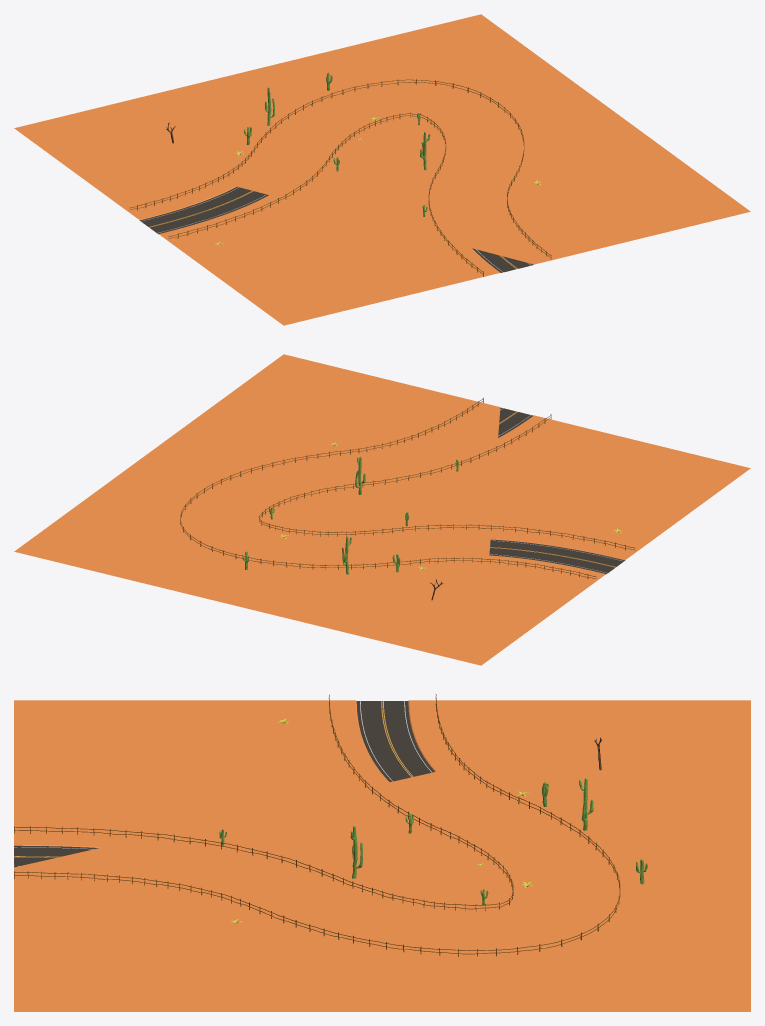
The model's file is DesertRoadRight4.fbx.
The picture shows the model from 3 angles, top to bottom: view 1: azimuth 30°, elevation 25°; view 2: azimuth 150°, elevation 25°; view 3: azimuth 270°, elevation 25°; orthographic projection. The views are drawn at different scales.
Visible parts, largest first — view 1: DRR4Road, DRR4WoodFenceLeft, DRR4WoodFenceRight; view 2: DRR4Road, DRR4WoodFenceLeft, DRR4WoodFenceRight; view 3: DRR4Road, DRR4WoodFenceLeft, DRR4WoodFenceRight.
Part boxes in pixels (x1,y1,x2,y2): DRR4Road: (14, 14, 750, 325); DRR4WoodFenceLeft: (129, 79, 551, 259); DRR4WoodFenceRight: (168, 112, 483, 276); DRR4Road: (14, 354, 750, 665); DRR4WoodFenceLeft: (180, 397, 596, 578); DRR4WoodFenceRight: (258, 414, 635, 550); DRR4Road: (14, 700, 750, 1011); DRR4WoodFenceLeft: (14, 694, 620, 956); DRR4WoodFenceRight: (14, 694, 513, 911).
Size of what is drawn, in the model's own units: 20000 by 1588 by 20000.
